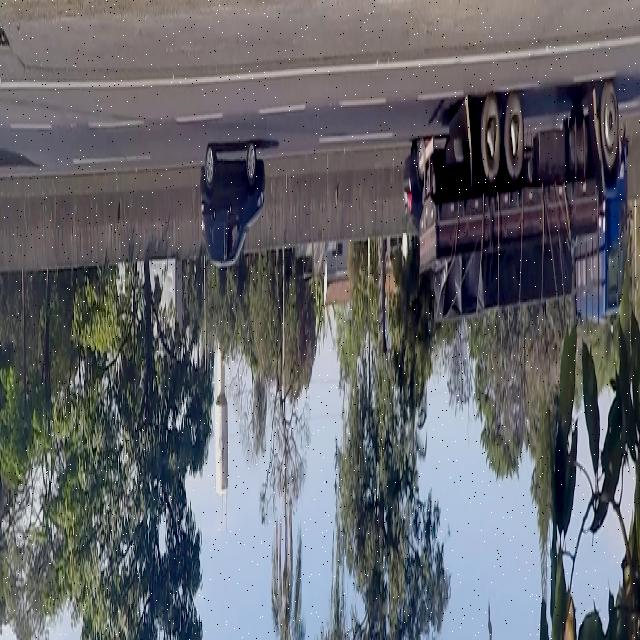-axle: (503, 82, 527, 181), (599, 70, 620, 174), (479, 89, 500, 185)
